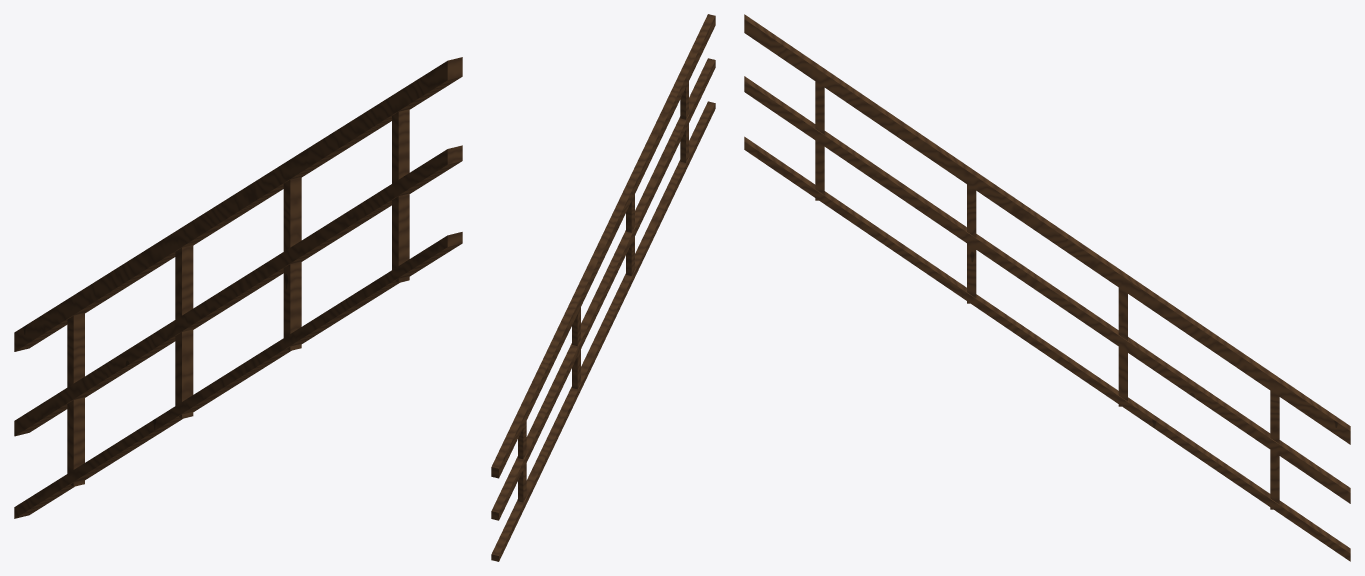
File: stair_rail_slope_3m.glb
3 views of the same model, side by side, from view 1: azimuth 30°, elevation 25°; view 2: azimuth 150°, elevation 25°; view 3: azimuth 270°, elevation 25° (orthographic). The views are drawn at different scales.
Visible parts, largest first — view 1: stair_rail_slope_3m; view 2: stair_rail_slope_3m; view 3: stair_rail_slope_3m.
Boxes of the visible parts, x1,y1,x2,y2 form: stair_rail_slope_3m: (14, 57, 462, 518); stair_rail_slope_3m: (491, 14, 715, 561); stair_rail_slope_3m: (744, 14, 1350, 561).
Size of the model in its own units: 0.08 by 3.95 by 4.
1 material, 1 textured.
